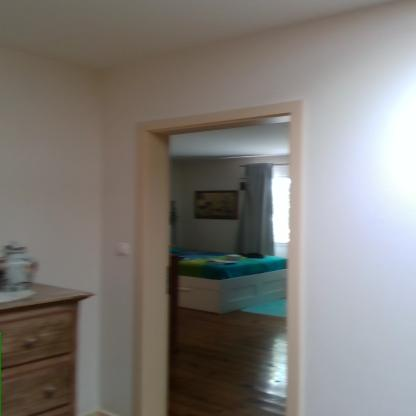open: (120, 88, 313, 415)
